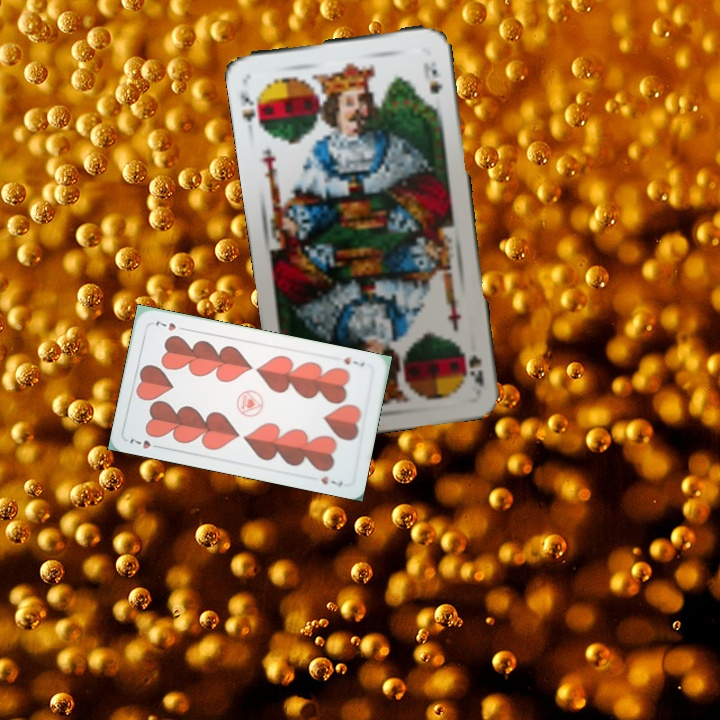H7: (125, 434, 164, 451), (340, 353, 367, 369)
SK: (236, 87, 267, 131), (459, 348, 486, 389)
